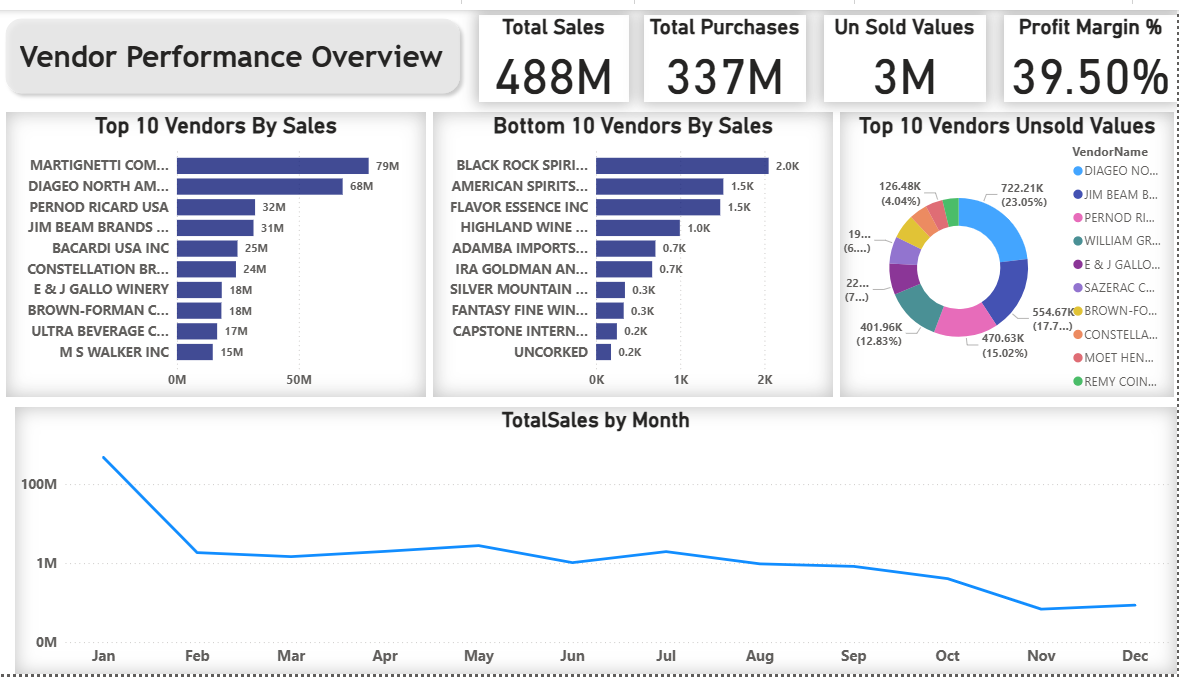

The dashboard page shown, as its layout file describes it:
{"tool":"powerbi","page":{"name":"Vendor Performance","canvas":[1280,720],"ordinal":0},"visuals":[{"type":"shape","box":[0,0,510.7,99.2],"z":0},{"type":"textbox","box":[19.5,26,470.1,52],"z":1000},{"type":"card","title":"Total Sales","fields":{"Values":["Sum(VendorPerformance.TotalSalesDollars)"]},"box":[522.1,4.9,162.7,94.3],"z":2000},{"type":"card","title":"Total Purchases","fields":{"Values":["Sum(VendorPerformance.TotalPurchasesDollars)"]},"box":[701,4.9,175.7,94.3],"z":3000},{"type":"card","title":"Profit Margin %","fields":{"Values":["Avg(VendorPerformance.ProfitMargin)"]},"box":[1091.4,4.9,188.7,94.3],"z":4000},{"type":"card","title":"Un Sold Values","fields":{"Values":["Sum(VendorPerformance.UnsoldValues)"]},"box":[896.2,4.9,175.7,94.3],"z":5000},{"type":"clusteredBarChart","title":"Top 10 Vendors By Sales","fields":{"Y":["Sum(VendorPerformance.TotalSalesDollars)"],"Category":["Dim Table.VendorName"]},"box":[9.8,110.6,455.4,309],"z":6000},{"type":"clusteredBarChart","title":"Bottom 10 Vendors By Sales","fields":{"Y":["Sum(VendorPerformance.TotalSalesDollars)"],"Category":["Dim Table.VendorName"]},"box":[473.3,110.6,432.7,309],"z":7000},{"type":"lineChart","title":"TotalSales by Month","fields":{"Category":["DateTable.MonthName"],"Y":["Sum(VendorPerformance.TotalSalesDollars)"]},"box":[19.5,430.3,1259.9,290.1],"z":8000},{"type":"donutChart","title":"Top 10 Vendors Unsold Values","fields":{"Category":["Dim Table.VendorName"],"Y":["Sum(VendorPerformance.UnsoldValues)"]},"box":[914.1,110.6,362.7,309],"z":9000}]}

Visuals, with their boxes in screenshot pixels (x1, y1, x2, y2), scaled from the page's 1280x720 canvas onto the 1179x683 screenshot:
shape: [0,0,470,94]
textbox: [18,25,451,74]
"Total Sales" card: [481,5,631,94]
"Total Purchases" card: [646,5,808,94]
"Profit Margin %" card: [1005,5,1178,94]
"Un Sold Values" card: [825,5,987,94]
"Top 10 Vendors By Sales" clusteredBarChart: [9,105,428,398]
"Bottom 10 Vendors By Sales" clusteredBarChart: [436,105,835,398]
"TotalSales by Month" lineChart: [18,408,1178,682]
"Top 10 Vendors Unsold Values" donutChart: [842,105,1176,398]
